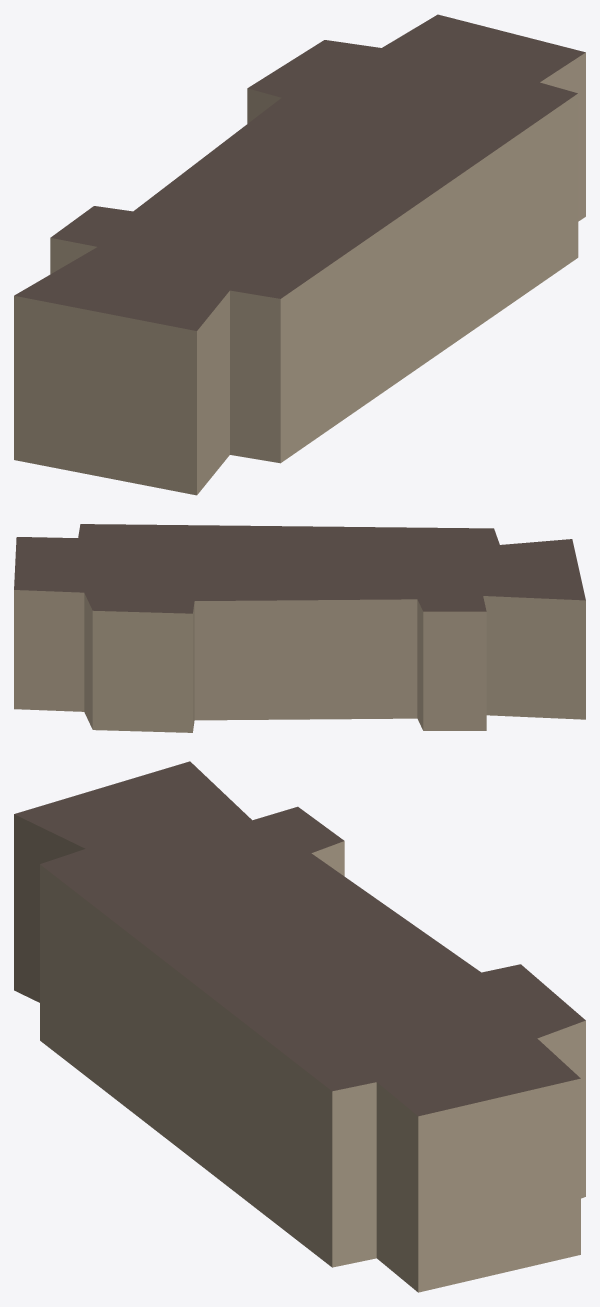
3 views of the same model, one above another, from view 1: azimuth 30°, elevation 25°; view 2: azimuth 150°, elevation 25°; view 3: azimuth 270°, elevation 25° (orthographic). The views are drawn at different scales.
Visible parts, largest first — view 1: HP-w1512359828; view 2: HP-w1512359828; view 3: HP-w1512359828.
Boxes of the visible parts, left/top/right/bottom form: HP-w1512359828: left=14, top=14, right=585, bottom=495; HP-w1512359828: left=14, top=524, right=585, bottom=732; HP-w1512359828: left=14, top=761, right=585, bottom=1292.
Size of the model in its own units: 38.88 by 9 by 26.47.
